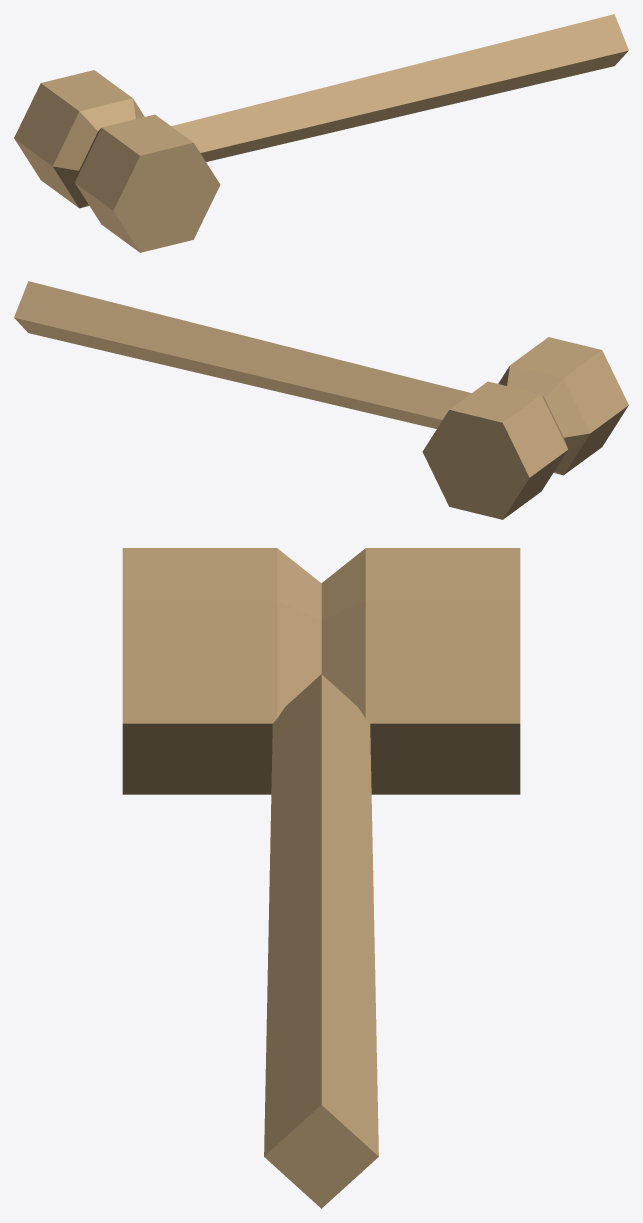
Rendered from prop-serving-mallet-rs1.fbx.
3 views of the same model, one above another, from view 1: azimuth 30°, elevation 25°; view 2: azimuth 150°, elevation 25°; view 3: azimuth 270°, elevation 25° (orthographic). The views are drawn at different scales.
Visible parts, largest first — view 1: prop-serving-mallet-rs1; view 2: prop-serving-mallet-rs1; view 3: prop-serving-mallet-rs1.
Part boxes in pixels (box(x1,y1,x2,y2)): prop-serving-mallet-rs1: box(14, 14, 628, 252); prop-serving-mallet-rs1: box(14, 281, 628, 519); prop-serving-mallet-rs1: box(122, 548, 520, 1208).
Size of the model in its own units: 28.8 by 4.85 by 9.
